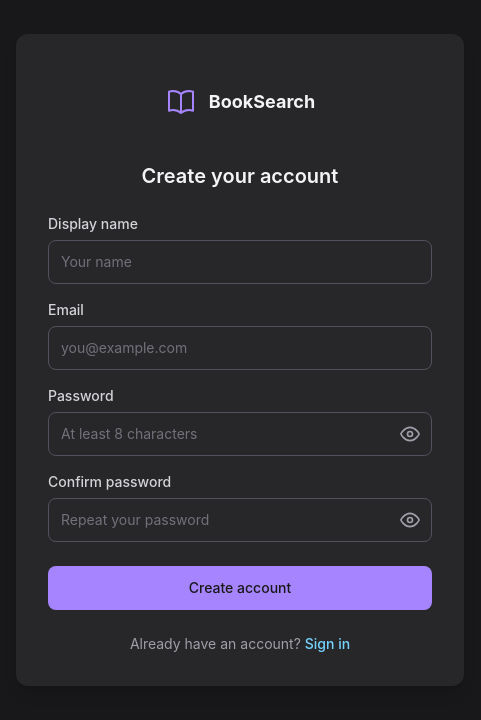
RegisterView › shows validation error when passwords do not match
This screenshot has width=481, height=720.
Type "Test User" into the field labelled "Display name". click: (240, 262)
box: [48, 240, 432, 284]
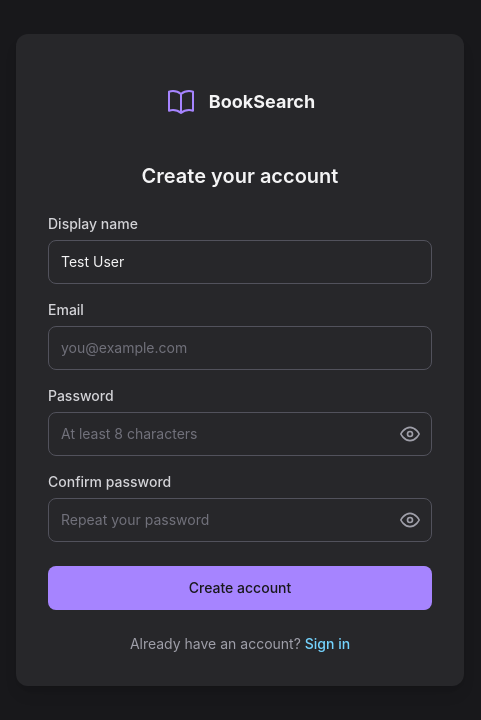
Type "test@example.com" into the field labelled "Email". click: (240, 348)
box: [48, 326, 432, 370]
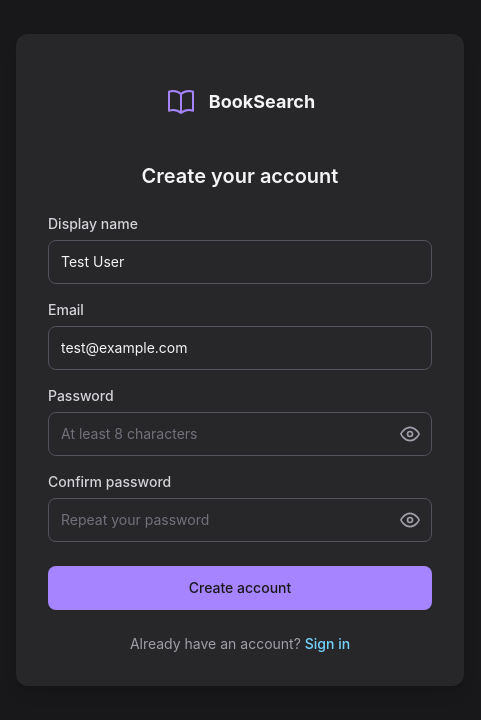
Type "password123" into the password field labelled "Password". click: (240, 434)
box: [48, 412, 432, 456]
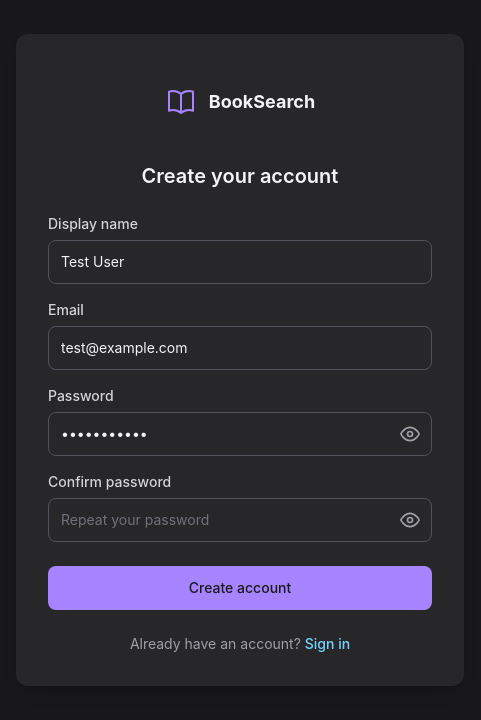
Type "different456" into the password field labelled "Confirm password". click: (240, 520)
box: [48, 498, 432, 542]
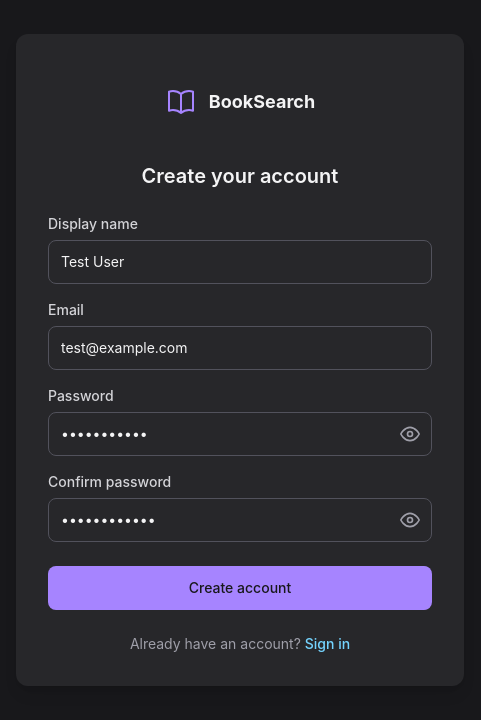
Submit the form, box [48, 214, 432, 610]
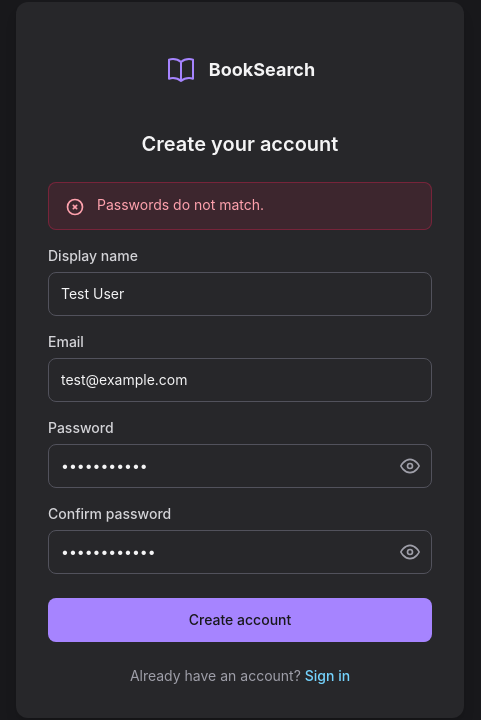
Check: the message "Passwords do not match." is shown, box [48, 182, 432, 230]
